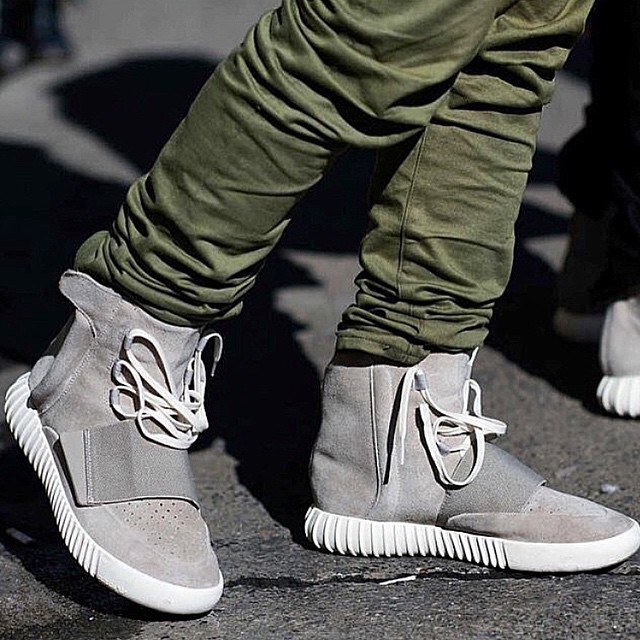sneaker: (1, 248, 263, 640), (277, 334, 640, 590)
